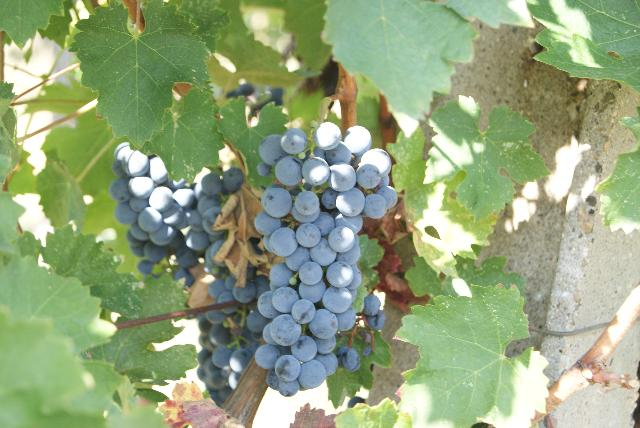grapes: (255, 122, 398, 395), (109, 142, 242, 286)
